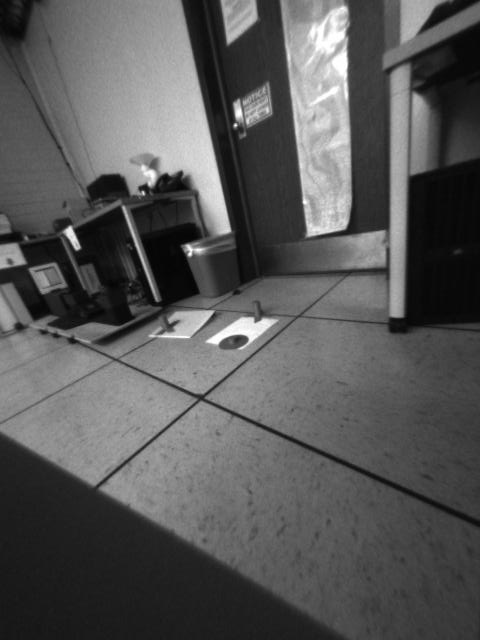X: (242, 299, 273, 324), (152, 312, 179, 336)
